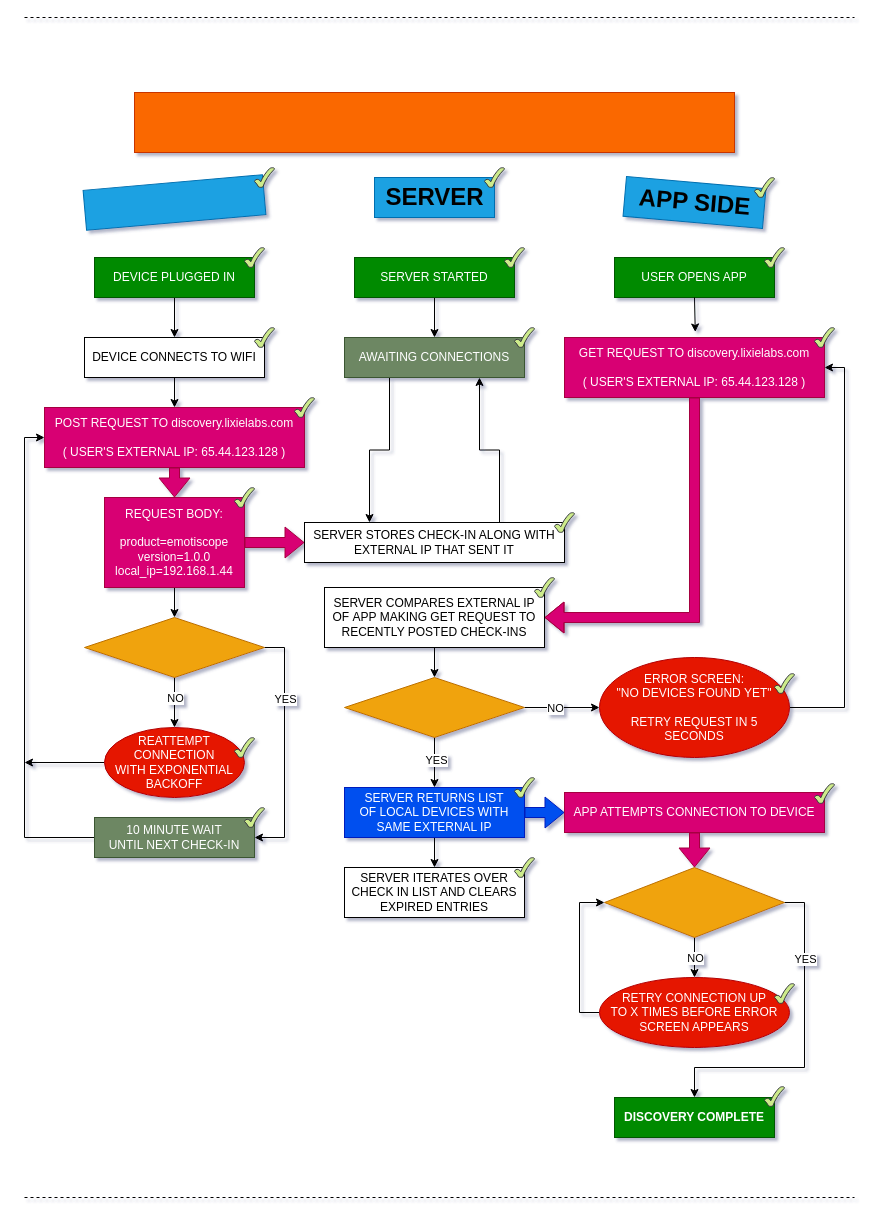
Image size: 879x1222. Some labels were removed from this diagram. The shapes that lost their labels are listed below. From the top down, each one's centre as x and y in pixels, then its label:
At (434,122): "LIXIE LABS DISCOVERY SERVER".
At (174,202): "DEVICE SIDE".
At (174,647): "SERVER REACHED?".
At (434,707): "MATCH FOUND?".
At (694,902): "CONNECTED SUCCESSFULLY?".
